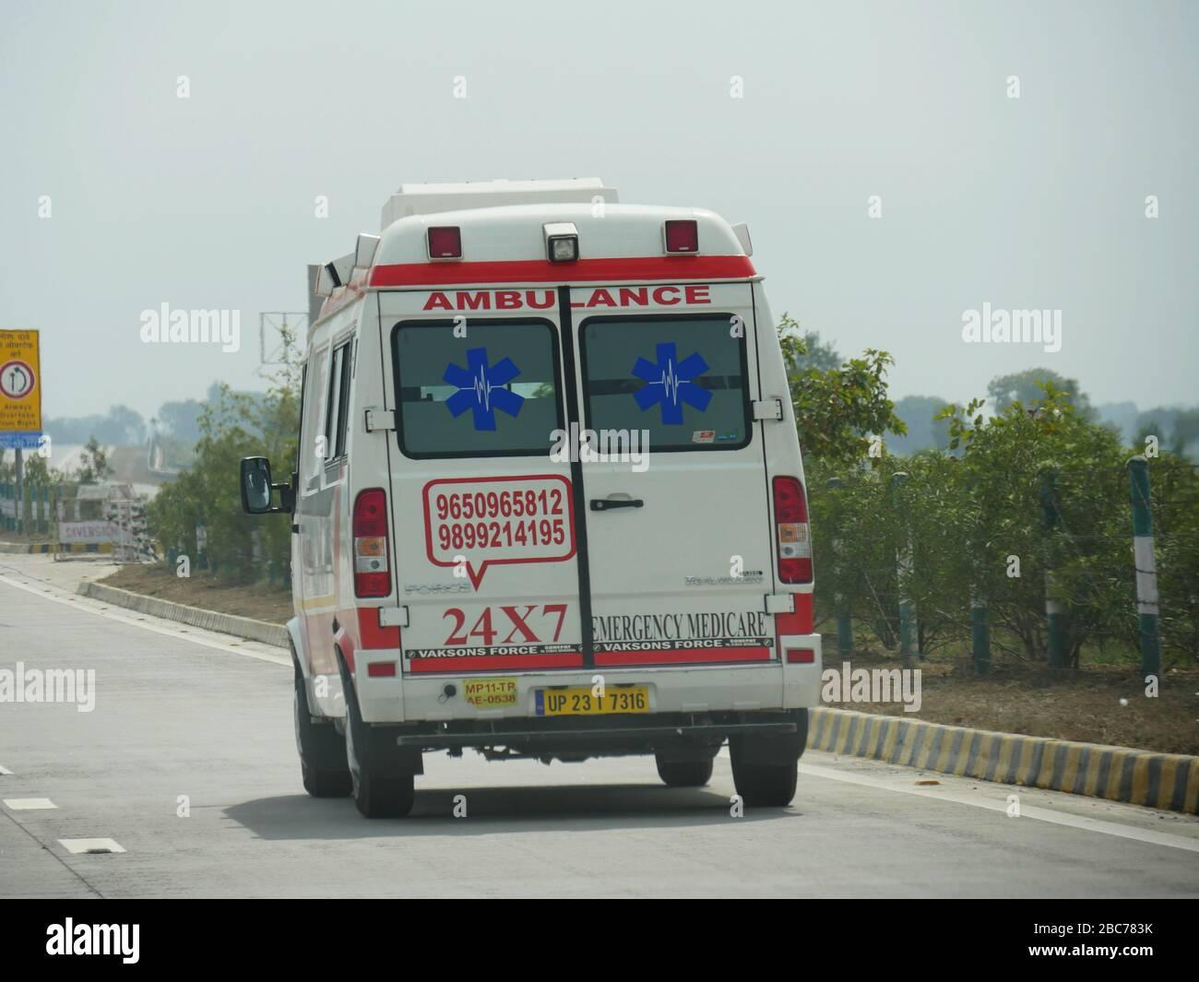ambulance: (286, 187, 837, 734)
